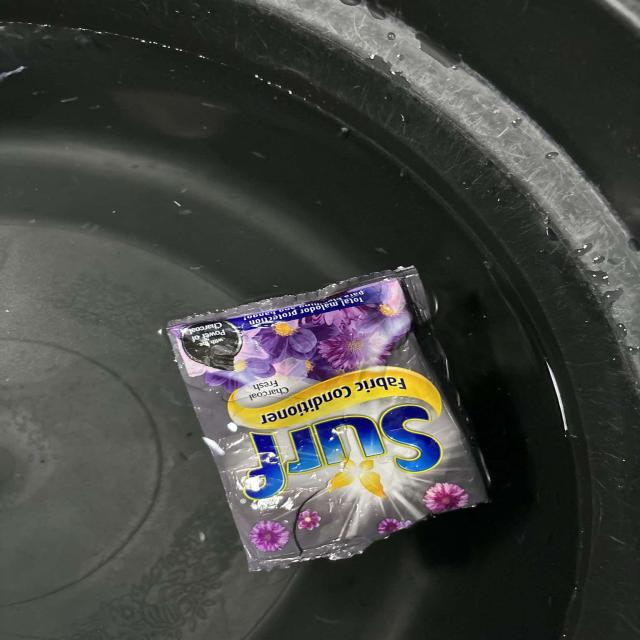Plastic Wrapper: (165, 268, 490, 571)
